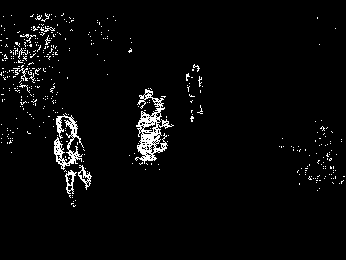person: (52, 113, 92, 209), (184, 62, 206, 123)
